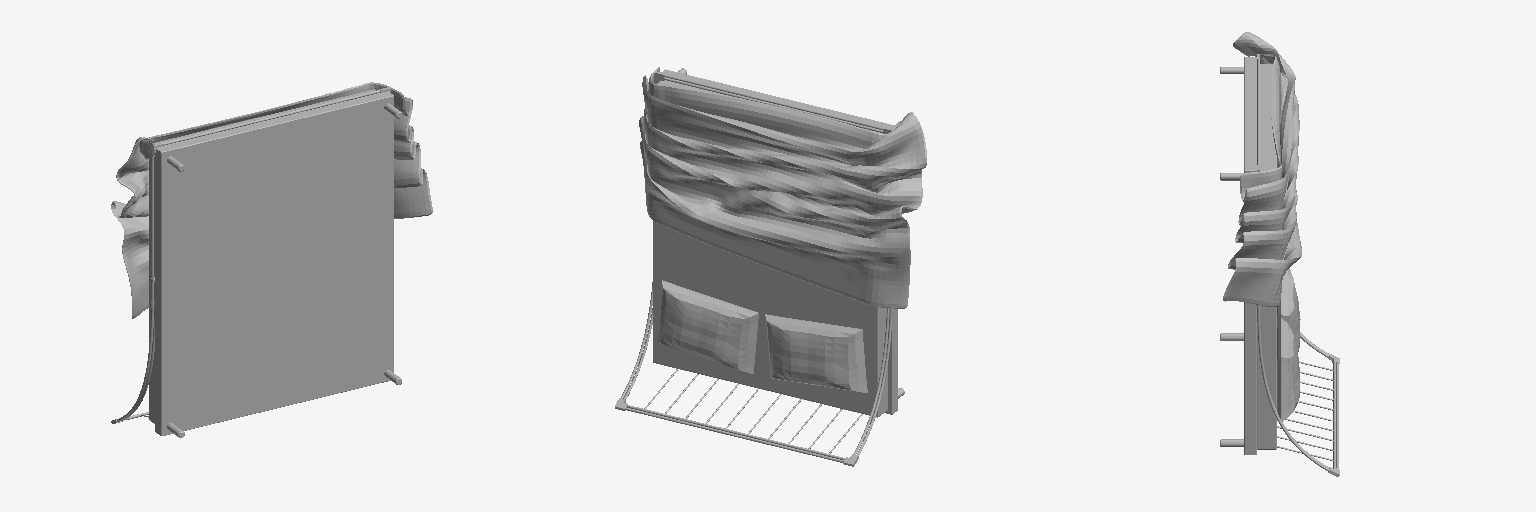
Rendered from 5403_Double_Bed_Large.obj.
3 views of the same model, side by side, from view 1: azimuth 30°, elevation 25°; view 2: azimuth 150°, elevation 25°; view 3: azimuth 270°, elevation 25° (orthographic).
Visible parts, largest first — view 1: obj_01, obj_07, obj_03, obj_00, obj_04; view 2: obj_07, obj_00, obj_06, obj_05, obj_03, obj_01; view 3: obj_07, obj_00, obj_01, obj_03, obj_06, obj_05, obj_04.
Part boxes in pixels (x1,y1,x2,y2): obj_01: (155,91,393,435); obj_07: (111,82,432,318); obj_03: (111,87,390,423); obj_00: (149,89,375,423); obj_04: (167,103,402,437); obj_07: (639,67,926,308); obj_00: (653,80,887,417); obj_06: (657,280,758,373); obj_05: (765,314,867,392); obj_03: (615,71,893,466); obj_01: (662,69,897,414); obj_07: (1223,32,1301,306); obj_00: (1257,64,1276,449); obj_01: (1244,57,1256,454); obj_03: (1256,54,1339,476); obj_06: (1277,318,1299,421); obj_05: (1277,268,1300,351); obj_04: (1220,67,1243,446).
Bounding box in the file's own units: 93.33 × 96.47 × 32.48.